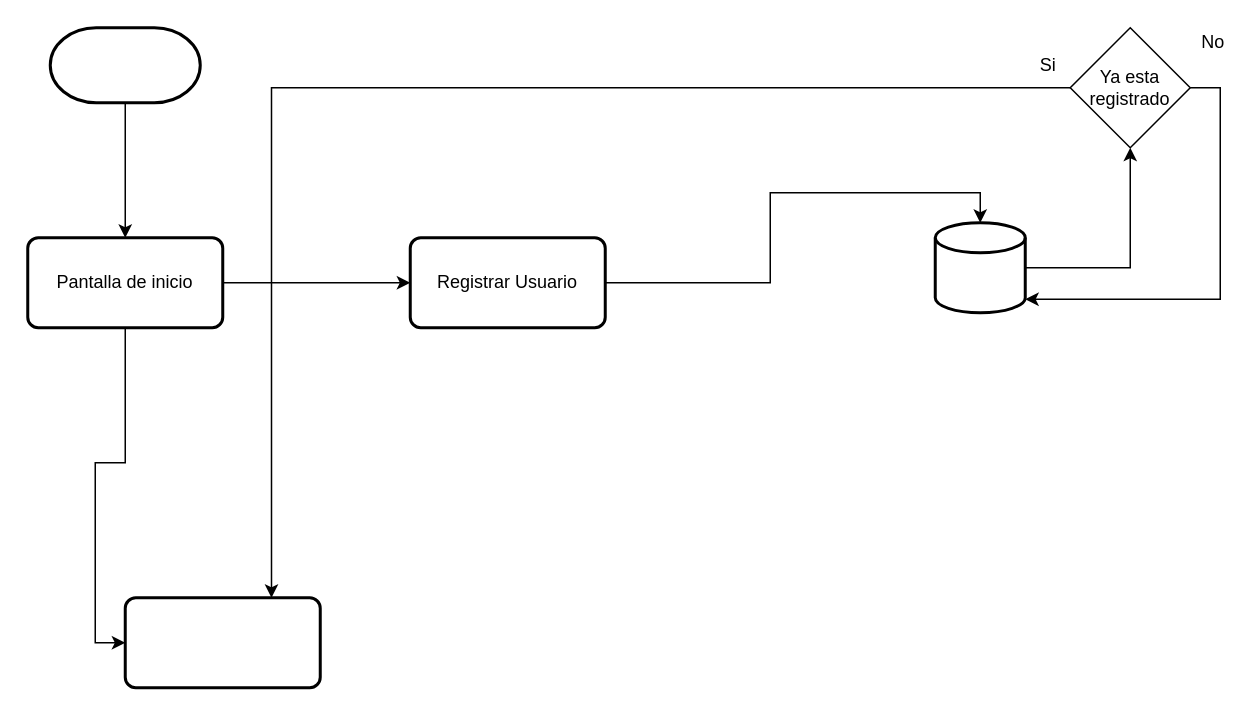
Some shapes in this 1260 by 714 pixel diagram are drawn without their labels. The shapes that lost their labels are listed below. From the top down, each one's centre as x and y in pixels, then its label:
At (124,65): "Inicio".
At (222,642): "Iniciar Sesión Usuario".
